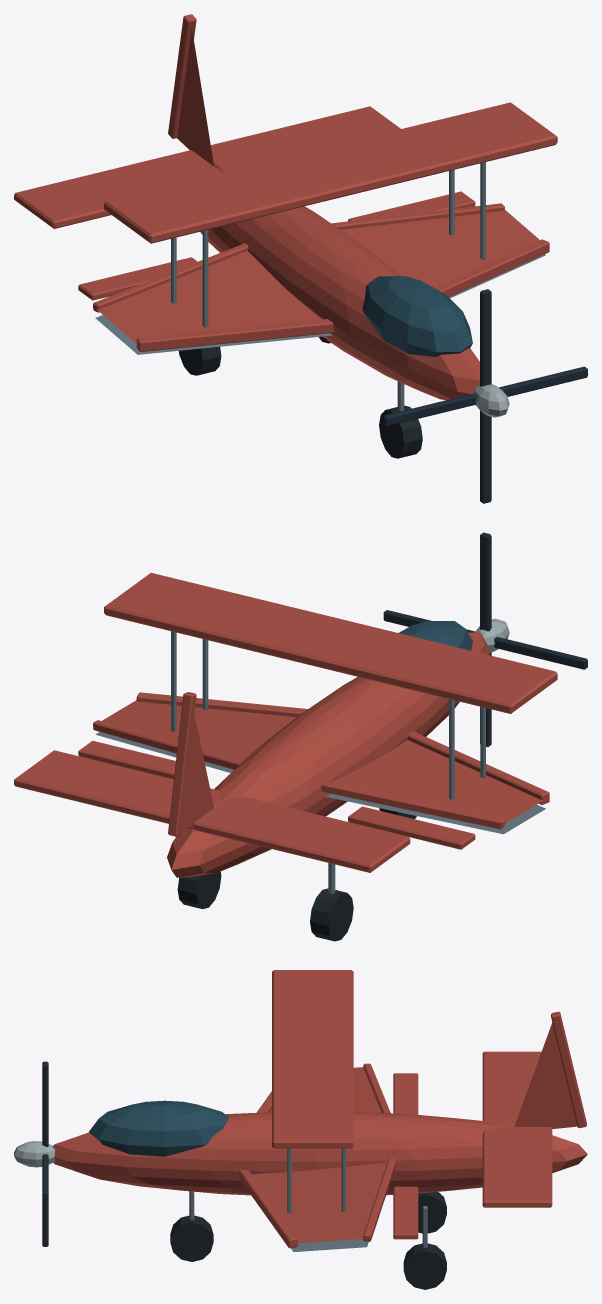
The model's file is aircraft-biplane.lod0.glb.
3 renders of one model, top to bottom at view 1: azimuth 30°, elevation 25°; view 2: azimuth 150°, elevation 25°; view 3: azimuth 270°, elevation 25°, orthographic. The views are drawn at different scales.
Parts seen in each view (by area): view 1: aircraft-biplane__body, aircraft-biplane__propeller_0, aircraft-biplane__gear_0, aircraft-biplane__aileron_-1, aircraft-biplane__aileron_1, aircraft-biplane__gear_-0p85; view 2: aircraft-biplane__body, aircraft-biplane__propeller_0, aircraft-biplane__aileron_-1, aircraft-biplane__gear_-0p85, aircraft-biplane__aileron_1, aircraft-biplane__gear_0p85; view 3: aircraft-biplane__body, aircraft-biplane__propeller_0, aircraft-biplane__gear_0p85, aircraft-biplane__gear_0, aircraft-biplane__aileron_1, aircraft-biplane__aileron_-1, aircraft-biplane__gear_-0p85.
Part boxes in pixels (x1,y1,x2,y2): aircraft-biplane__body: (14,14,557,400); aircraft-biplane__propeller_0: (383,289,587,503); aircraft-biplane__gear_0: (379,381,422,458); aircraft-biplane__aileron_-1: (78,257,197,300); aircraft-biplane__aileron_1: (348,191,475,221); aircraft-biplane__gear_-0p85: (179,346,221,375); aircraft-biplane__body: (14,573,557,877); aircraft-biplane__propeller_0: (383,532,587,746); aircraft-biplane__aileron_-1: (348,806,475,849); aircraft-biplane__gear_-0p85: (310,863,353,941); aircraft-biplane__aileron_1: (78,740,175,779); aircraft-biplane__gear_0p85: (177,871,221,909); aircraft-biplane__body: (52,970,587,1251); aircraft-biplane__propeller_0: (14,1061,55,1246); aircraft-biplane__gear_0p85: (403,1206,446,1289); aircraft-biplane__gear_0: (170,1191,213,1261); aircraft-biplane__aileron_1: (393,1186,418,1239); aircraft-biplane__aileron_-1: (393,1073,418,1114); aircraft-biplane__gear_-0p85: (418,1192,446,1233).
Bounding box in the file's own units: 5.28 × 3.49 × 7.41.
